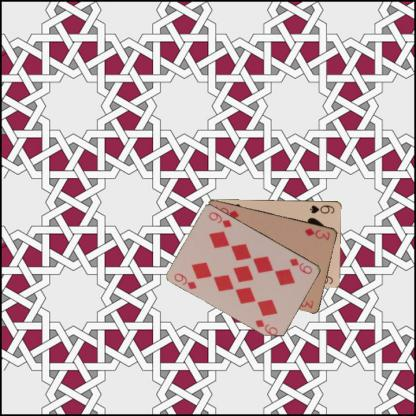3d: (302, 225, 331, 242)
6s: (307, 203, 336, 215)
9d: (286, 256, 314, 276), (172, 270, 198, 290)
